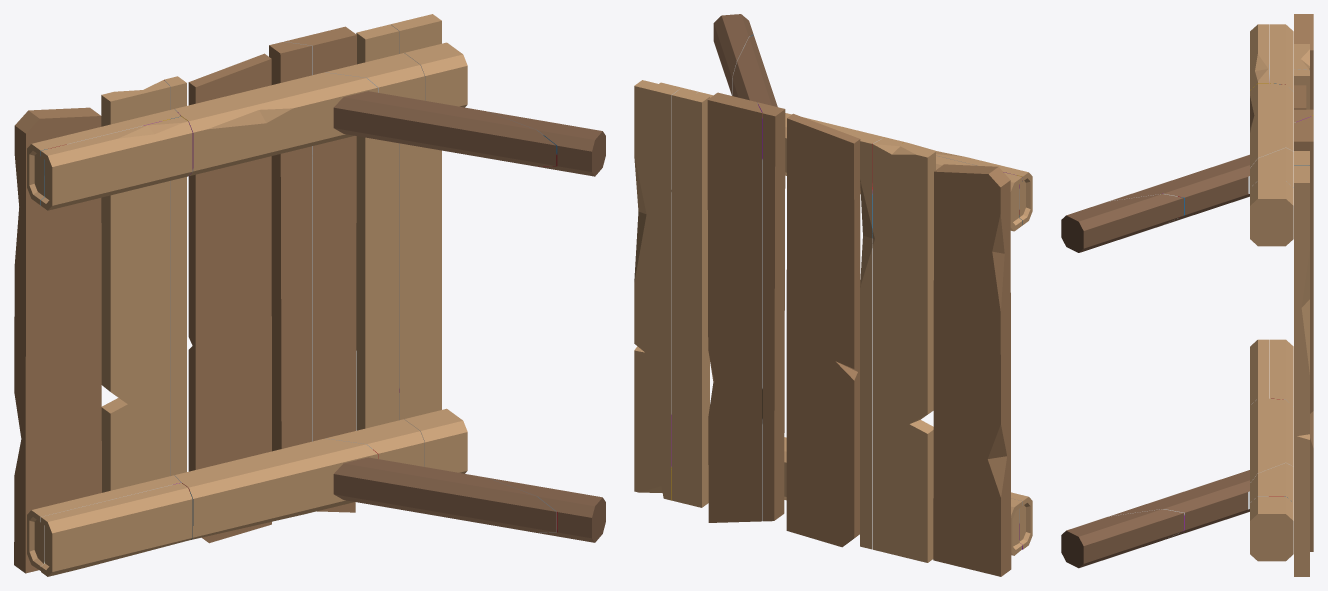
The model's file is Bridge_Fractured.fbx.
The picture shows the model from 3 angles, left to right: view 1: azimuth 30°, elevation 25°; view 2: azimuth 150°, elevation 25°; view 3: azimuth 270°, elevation 25°; orthographic projection. The views are drawn at different scales.
Parts seen in each view (by area): view 1: Bridge.001_cell.038, Bridge.001_cell.012, Bridge.001_cell.031, Bridge.001_cell.039, Bridge.001_cell.028, Bridge.001_cell.004, Bridge.001_cell.019, Bridge.001_cell.035, Bridge.001_cell.017, Bridge.001_cell.045, Bridge.001_cell.010, Bridge.001_cell.043 (+2 smaller); view 2: Bridge.001_cell.012, Bridge.001_cell.031, Bridge.001_cell.039, Bridge.001_cell.004, Bridge.001_cell.017, Bridge.001_cell.019, Bridge.001_cell.035, Bridge.001_cell.010, Bridge.001_cell.038, Bridge.001_cell.028, Bridge.001_cell.045, Bridge.001_cell.041; view 3: Bridge.001_cell.038, Bridge.001_cell.045, Bridge.001_cell.017, Bridge.001_cell.043, Bridge.001_cell.041, Bridge.001_cell.023, Bridge.001_cell.028, Bridge.001_cell.004, Bridge.001_cell.012, Bridge.001_cell.039, Bridge.001_cell.010.
Boxes of the visible parts, left/top/right/bottom form: Bridge.001_cell.038: left=174, top=72, right=556, bottom=539; Bridge.001_cell.012: left=14, top=107, right=101, bottom=573; Bridge.001_cell.031: left=188, top=53, right=271, bottom=543; Bridge.001_cell.039: left=101, top=80, right=170, bottom=492; Bridge.001_cell.028: left=41, top=116, right=192, bottom=576; Bridge.001_cell.004: left=284, top=26, right=356, bottom=512; Bridge.001_cell.019: left=356, top=24, right=399, bottom=430; Bridge.001_cell.035: left=269, top=42, right=312, bottom=451; Bridge.001_cell.017: left=390, top=14, right=441, bottom=420; Bridge.001_cell.045: left=488, top=111, right=605, bottom=542; Bridge.001_cell.010: left=164, top=76, right=186, bottom=475; Bridge.001_cell.043: left=404, top=42, right=467, bottom=473; Bridge.001_cell.012: left=933, top=164, right=1011, bottom=576; Bridge.001_cell.031: left=786, top=113, right=860, bottom=547; Bridge.001_cell.039: left=872, top=138, right=935, bottom=562; Bridge.001_cell.004: left=707, top=92, right=762, bottom=522; Bridge.001_cell.017: left=634, top=80, right=679, bottom=500; Bridge.001_cell.019: left=672, top=89, right=709, bottom=507; Bridge.001_cell.035: left=757, top=102, right=785, bottom=521; Bridge.001_cell.010: left=860, top=135, right=882, bottom=549; Bridge.001_cell.038: left=732, top=35, right=903, bottom=500; Bridge.001_cell.028: left=902, top=142, right=1032, bottom=549; Bridge.001_cell.045: left=713, top=14, right=753, bottom=95; Bridge.001_cell.041: left=936, top=156, right=1022, bottom=555; Bridge.001_cell.038: left=1109, top=83, right=1293, bottom=539; Bridge.001_cell.045: left=1061, top=194, right=1184, bottom=568; Bridge.001_cell.017: left=1294, top=165, right=1309, bottom=576; Bridge.001_cell.043: left=1250, top=181, right=1293, bottom=561; Bridge.001_cell.041: left=1270, top=24, right=1293, bottom=406; Bridge.001_cell.023: left=1250, top=148, right=1293, bottom=502; Bridge.001_cell.028: left=1250, top=24, right=1269, bottom=405; Bridge.001_cell.004: left=1294, top=116, right=1313, bottom=551; Bridge.001_cell.012: left=1294, top=14, right=1313, bottom=109; Bridge.001_cell.039: left=1294, top=44, right=1309, bottom=70; Bridge.001_cell.010: left=1294, top=69, right=1309, bottom=109.
Size of the model in its own units: 209 by 209 by 116.
